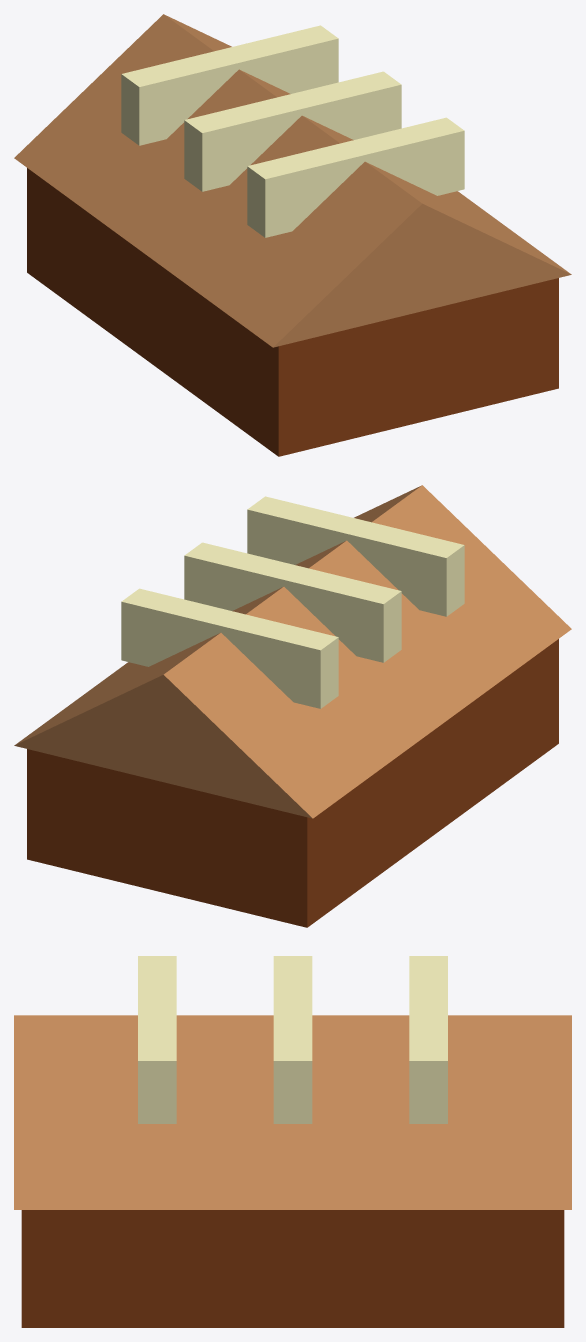
Rendered from bread.fbx.
3 views of the same model, one above another, from view 1: azimuth 30°, elevation 25°; view 2: azimuth 150°, elevation 25°; view 3: azimuth 270°, elevation 25° (orthographic). The views are drawn at different scales.
Parts seen in each view (by area): view 1: Bread; view 2: Bread; view 3: Bread.
Part boxes in pixels (x1,y1,x2,y2): Bread: (14,14,571,456); Bread: (14,485,571,927); Bread: (14,956,571,1327).
Bounding box in the file's own units: 96 × 70 × 144.
